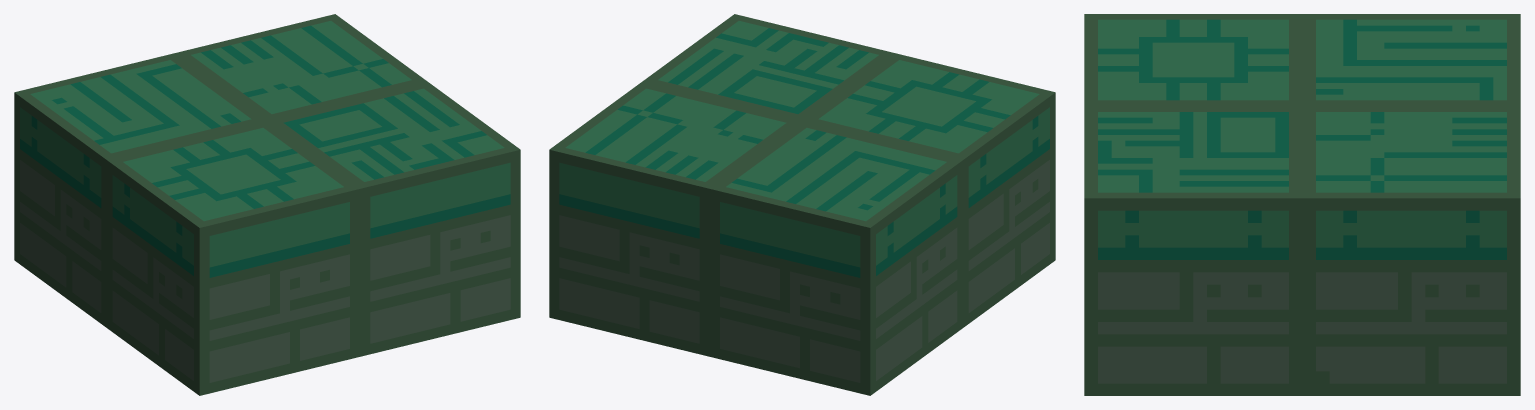
File: m_tiles_1_2x2.fbx
3 renders of one model, left to right at view 1: azimuth 30°, elevation 25°; view 2: azimuth 150°, elevation 25°; view 3: azimuth 270°, elevation 25°, orthographic. The views are drawn at different scales.
Parts seen in each view (by area): view 1: m_tiles_1_2x2; view 2: m_tiles_1_2x2; view 3: m_tiles_1_2x2.
Part boxes in pixels (<box>): m_tiles_1_2x2: <box>14,14,520,395</box>; m_tiles_1_2x2: <box>549,14,1055,395</box>; m_tiles_1_2x2: <box>1084,14,1520,395</box>.
Size of the model in its own units: 3.2 by 1.6 by 3.2.
Materials: 1 (1 with a texture image).
